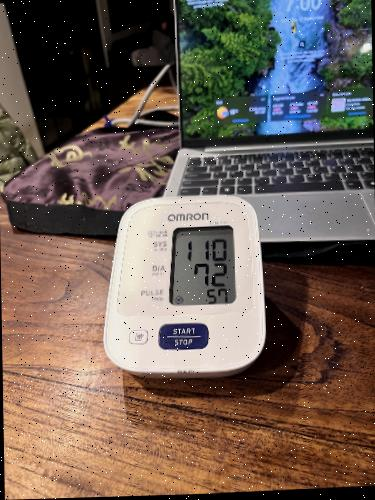bpm: (163, 224, 238, 308)
